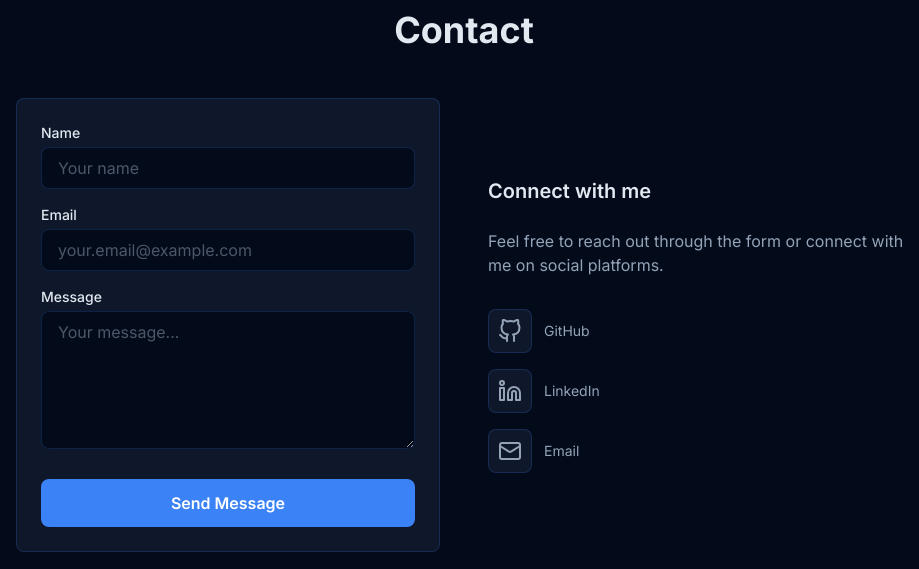
Test: ContactSection › Success state › shows "Message sent successfully!" after successful submission
Type "John Doe" into the field labelled "Name".
click(228, 168); type("John Doe")  # box [41,147,415,189]
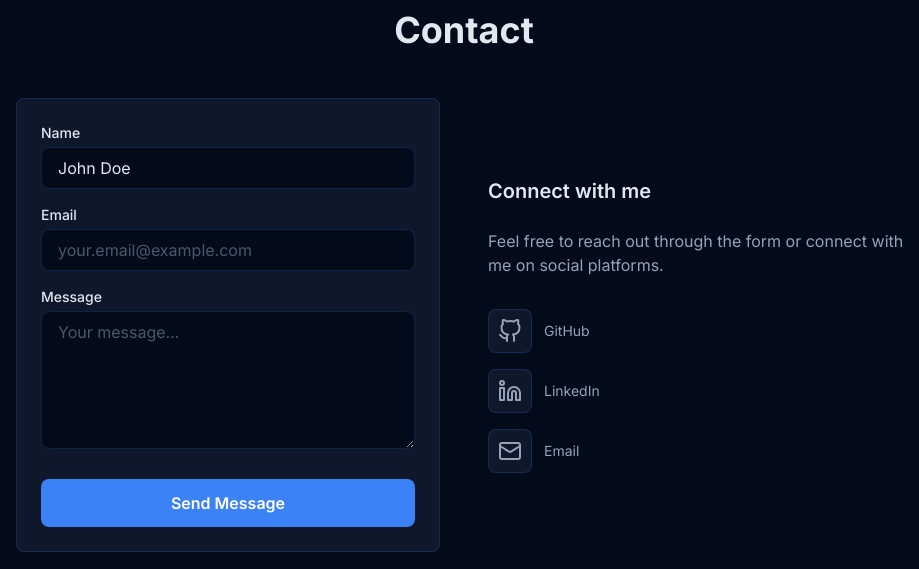
Type "john@example.com" into the field labelled "Email".
click(228, 250); type("john@example.com")  # box [41,229,415,271]
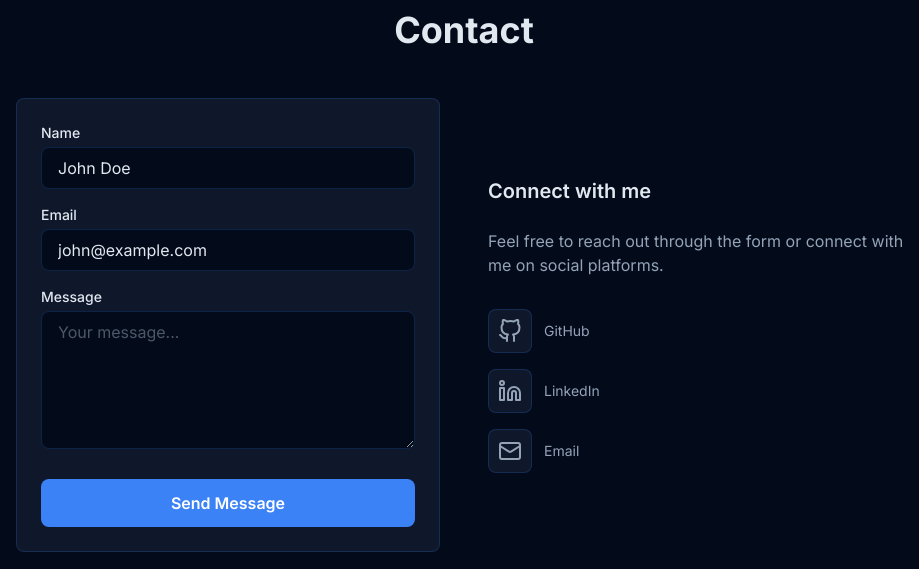
Type "Hello there" into the text box labelled "Message".
click(228, 380); type("Hello there")  # box [41,311,415,449]
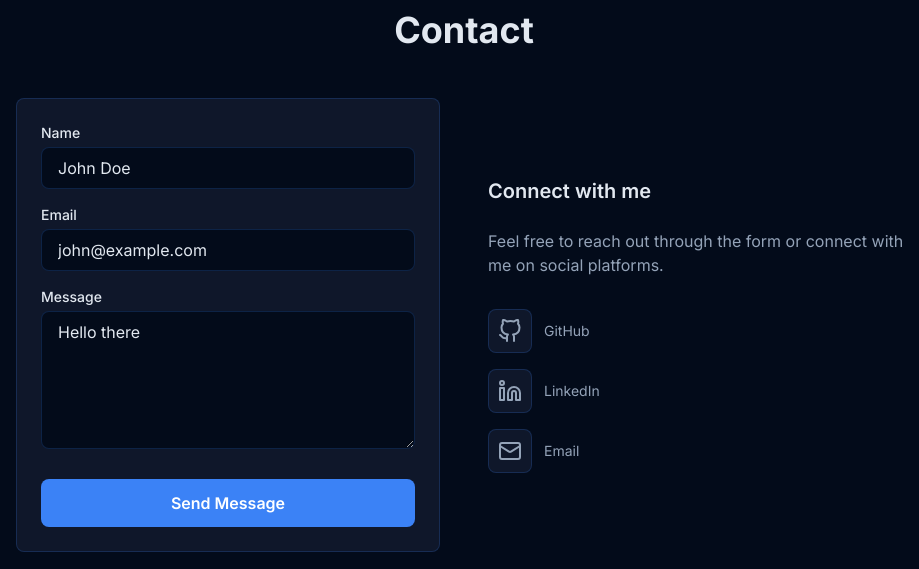
Click the button "Send Message".
click(228, 503)  # box [41,479,415,527]
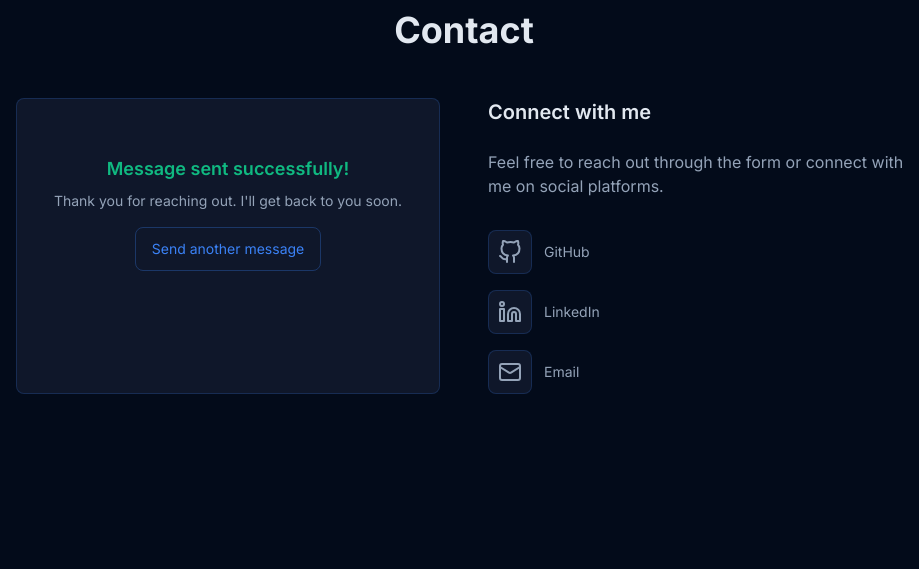
Expected: the text "Message sent successfully!" is shown, [107,158,349,179]
